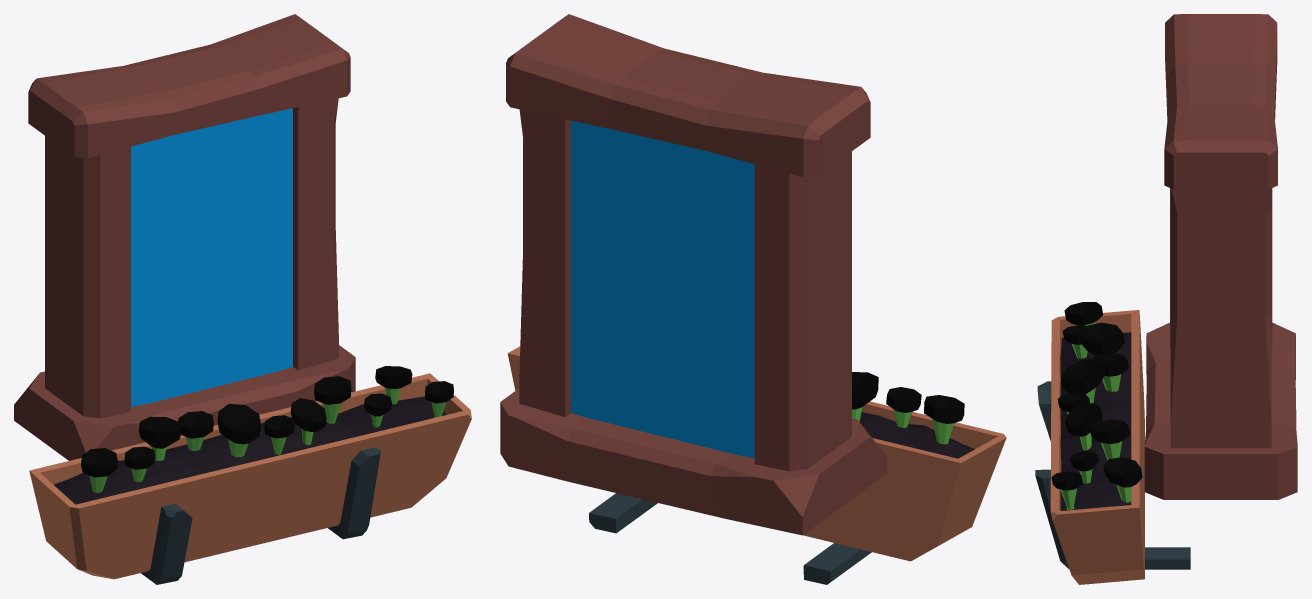
The model's file is Building Window 04.fbx.
3 views of the same model, side by side, from view 1: azimuth 30°, elevation 25°; view 2: azimuth 150°, elevation 25°; view 3: azimuth 270°, elevation 25° (orthographic). The views are drawn at different scales.
Parts seen in each view (by area): view 1: Building Window 04; view 2: Building Window 04; view 3: Building Window 04.
Part boxes in pixels (x1=…): Building Window 04: x1=14, y1=14, x2=471, y2=584; Building Window 04: x1=500, y1=14, x2=1006, y2=584; Building Window 04: x1=1035, y1=14, x2=1297, y2=584.
Size of the model in its own units: 202 by 212 by 113.
